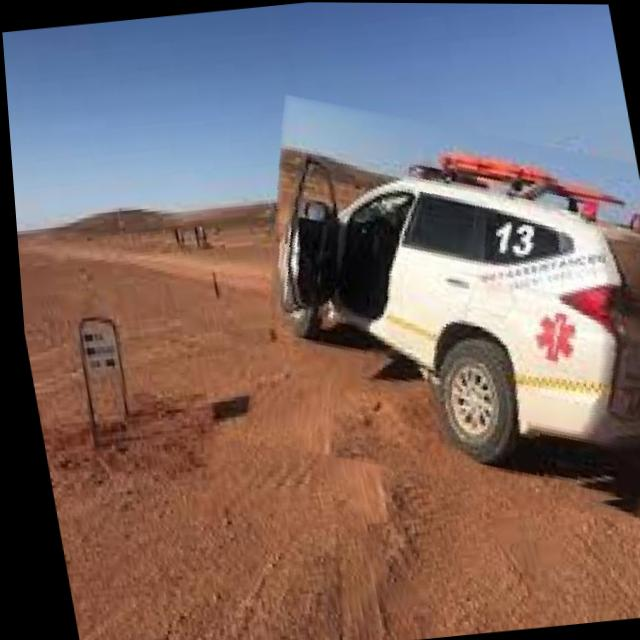ambulance: (203, 82, 640, 534)
